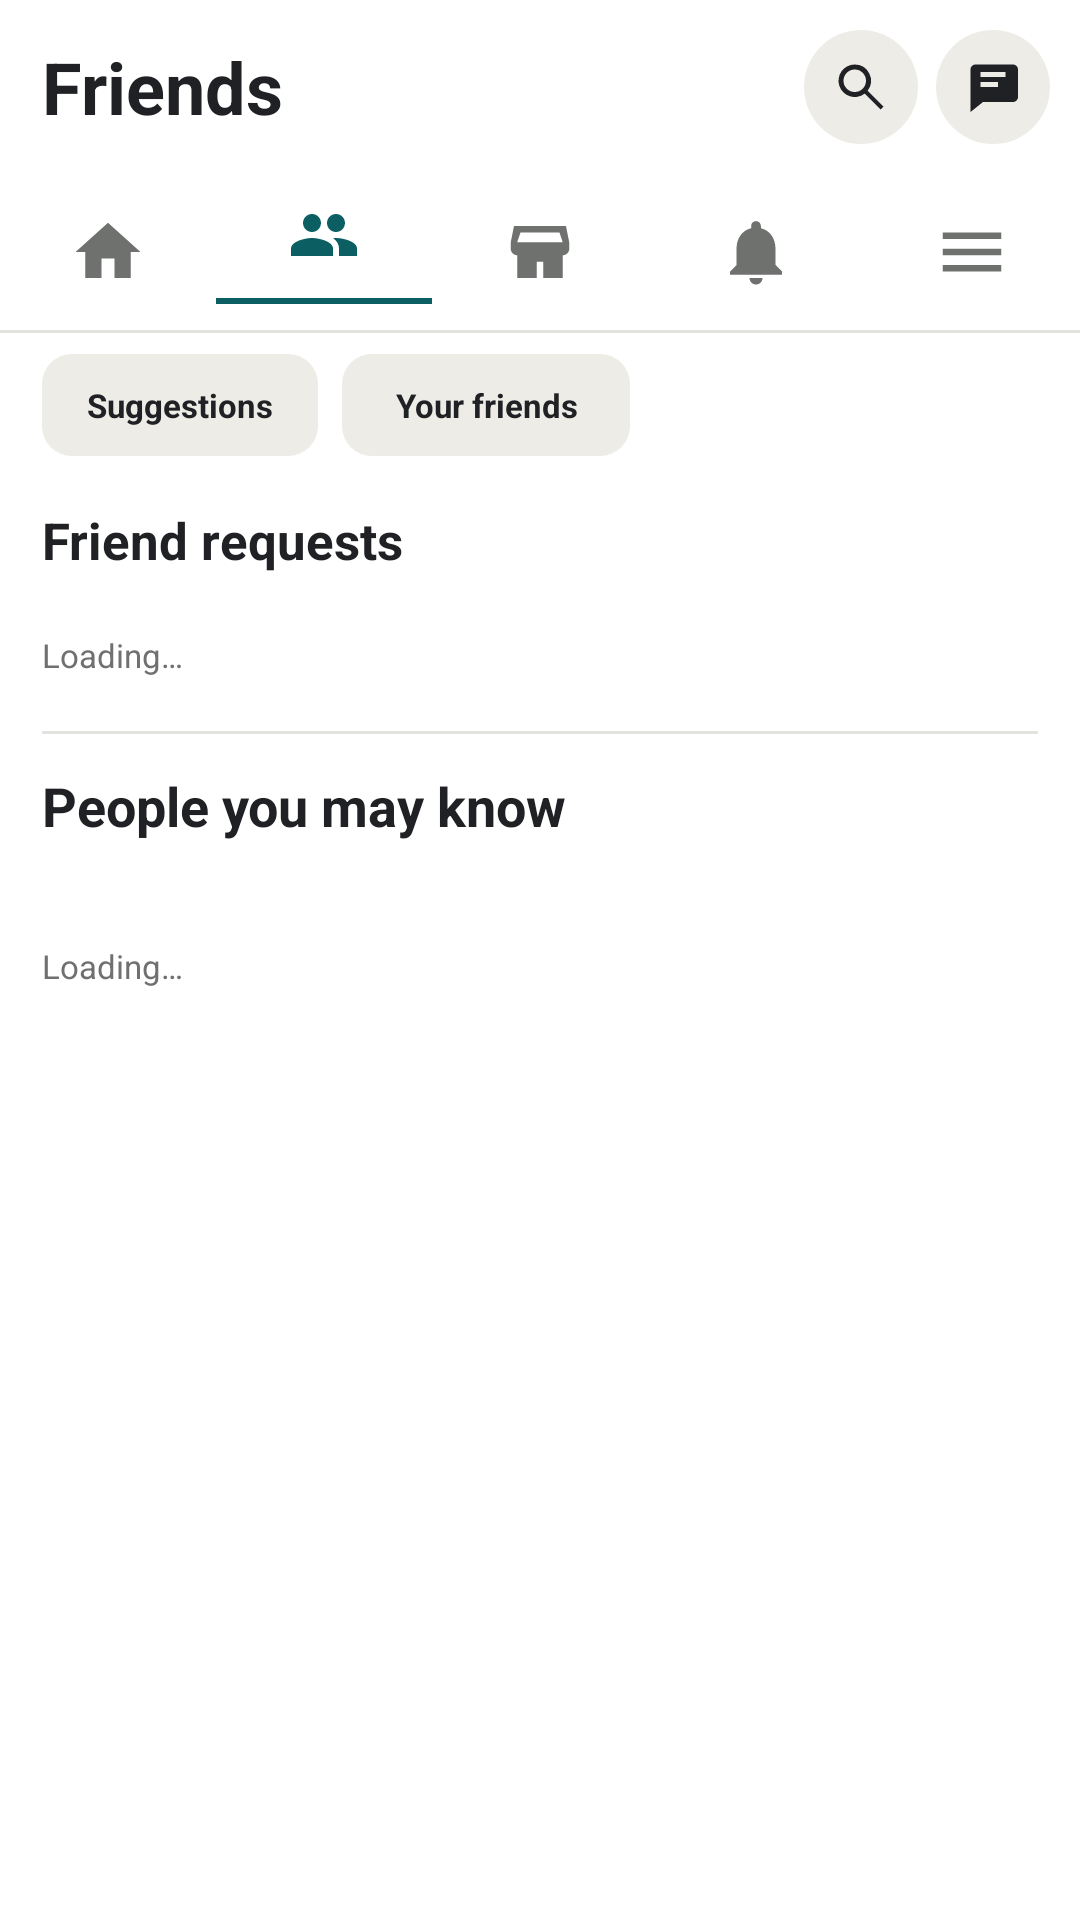

Icon click points for this 1080 × 1920 phone screenshot, format point (x, y):
Chats: point (994, 88)
Home: point (108, 250)
Marketplace: point (540, 252)
Menu: point (972, 252)
Notifications: point (756, 253)
Search: point (861, 87)
